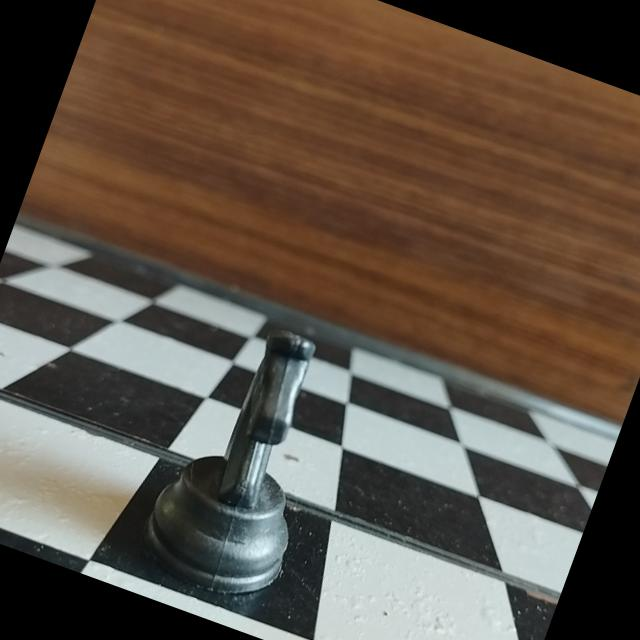Black Knight: (117, 284, 380, 628)
